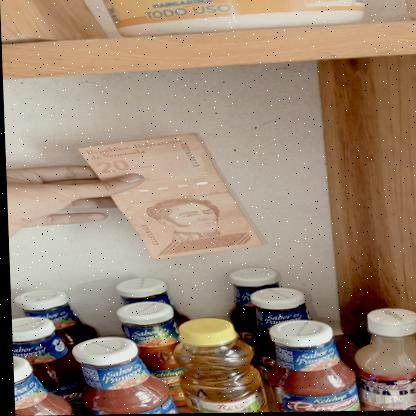twenty-front-vef: (75, 132, 259, 262)
